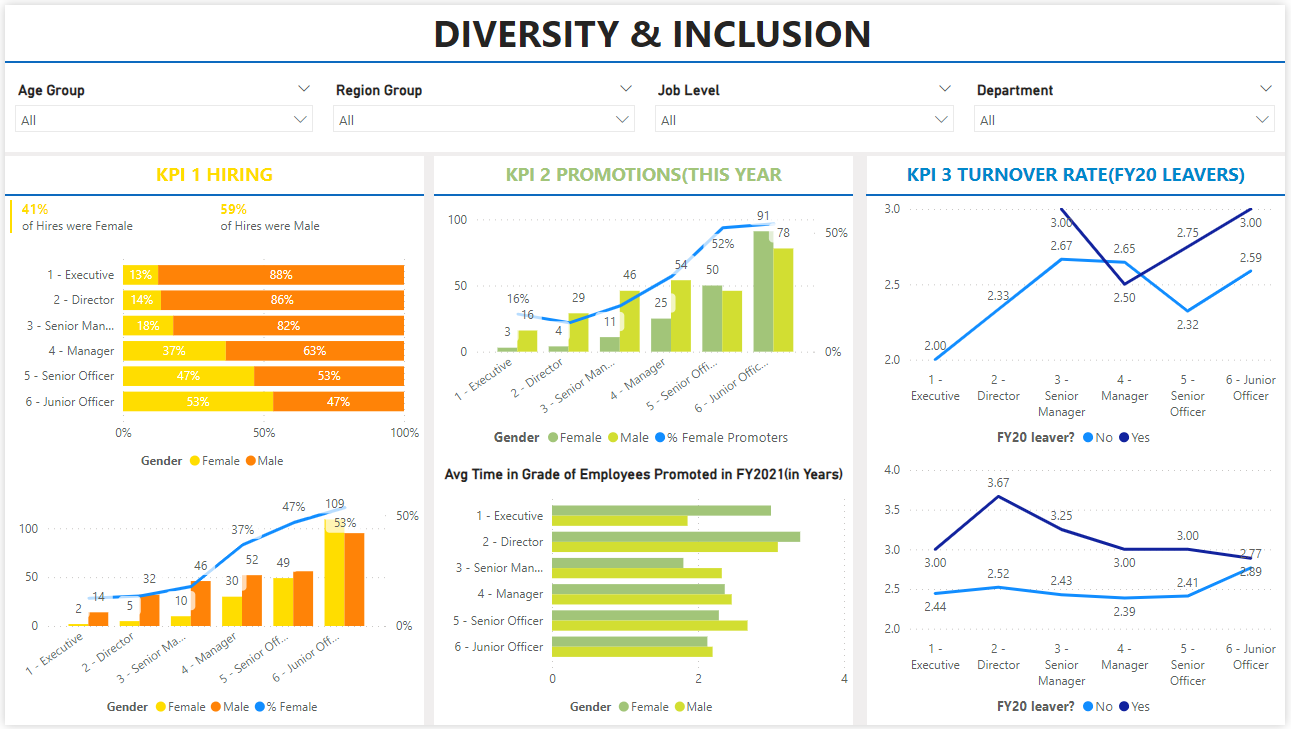

This screenshot's page, from the dashboard's own definition file:
{"tool":"powerbi","page":{"name":"Dashboard 1","canvas":[1280,720],"ordinal":0},"visuals":[{"type":"textbox","box":[0,0,1280,57],"z":0},{"type":"slicer","fields":{"Values":["Pharma.Last Department in FY20"]},"box":[959,57,321,90],"z":1000},{"type":"slicer","fields":{"Values":["Pharma.Job Level after FY20 promotions"]},"box":[640,57,319,90],"z":2000},{"type":"slicer","fields":{"Values":["Pharma.Age group"]},"box":[0,57,318,90],"z":3000},{"type":"slicer","fields":{"Values":["Pharma.Broad region group: nationality 1"]},"box":[318,57,322,90],"z":4000},{"type":"hundredPercentStackedBarChart","fields":{"Category":["Pharma.Job Level after FY20 promotions"],"Y":["CountNonNull(Pharma.Employee ID)"],"Series":["Pharma.Gender"]},"box":[0,237,419,237],"z":5000},{"type":"multiRowCard","fields":{"Values":["Pharma.% Female","Pharma.% Male"]},"box":[0,190,419,47],"z":6000},{"type":"lineClusteredColumnComboChart","fields":{"Category":["Pharma.Job Level after FY20 promotions"],"Y":["CountNonNull(Pharma.Employee ID)"],"Y2":["Pharma.% Female"],"Series":["Pharma.Gender"]},"box":[0,474,419,246],"z":7000},{"type":"lineClusteredColumnComboChart","fields":{"Y":["CountNonNull(Pharma.Employee ID)"],"Y2":["Pharma.% Female"],"Series":["Pharma.Gender"],"Category":["Pharma.Job Level after FY21 promotions"]},"box":[429,190,419,261],"z":8000},{"type":"clusteredBarChart","title":"Avg Time in Grade of  Employees Promoted in FY2021(in Years)","fields":{"Category":["Pharma.Job Level after FY20 promotions"],"Series":["Pharma.Gender"],"Y":["Avg(Pharma.Time in Job Level @01.07.2020)"]},"box":[429,451,419,269],"z":9000},{"type":"lineChart","fields":{"Category":["Pharma.Job Level after FY20 promotions"],"Series":["Pharma.FY20 leaver?"],"Y":["Avg(Pharma.FY19 Performance Rating)"]},"box":[862,190,418,261],"z":10000},{"type":"lineChart","fields":{"Category":["Pharma.Job Level after FY20 promotions"],"Series":["Pharma.FY20 leaver?"],"Y":["Avg(Pharma.FY19 Performance Rating)"]},"box":[862,451,418,269],"z":11000},{"type":"textbox","box":[0,151,419,39],"z":12000},{"type":"textbox","box":[429,151,419,39],"z":13000},{"type":"textbox","box":[862,151,418,39],"z":14000},{"type":"shape","box":[0,178,419,24],"z":15000},{"type":"shape","box":[429,178,419,24],"z":16000},{"type":"shape","box":[0,45,1280,24],"z":17000},{"type":"shape","box":[861,178,419,24],"z":18000}]}

Visuals, with their boxes in screenshot pixels (x1, y1, x2, y2), scaled from the page's 1280x720 canvas onto the 1291x729 screenshot:
textbox: detection(0, 0, 1290, 58)
slicer - Pharma.Last Department in FY20: detection(967, 58, 1290, 149)
slicer - Pharma.Job Level after FY20 promotions: detection(646, 58, 967, 149)
slicer - Pharma.Age group: detection(0, 58, 321, 149)
slicer - Pharma.Broad region group: nationality 1: detection(321, 58, 646, 149)
hundredPercentStackedBarChart - Pharma.Job Level after FY20 promotions x CountNonNull(Pharma.Employee ID): detection(0, 240, 423, 480)
multiRowCard - Pharma.% Female x Pharma.% Male: detection(0, 192, 423, 240)
lineClusteredColumnComboChart - Pharma.Job Level after FY20 promotions x CountNonNull(Pharma.Employee ID): detection(0, 480, 423, 728)
lineClusteredColumnComboChart - CountNonNull(Pharma.Employee ID) x Pharma.% Female: detection(433, 192, 855, 457)
"Avg Time in Grade of  Employees Promoted in FY2021(in Years)" clusteredBarChart: detection(433, 457, 855, 728)
lineChart - Pharma.Job Level after FY20 promotions x Pharma.FY20 leaver?: detection(869, 192, 1290, 457)
lineChart - Pharma.Job Level after FY20 promotions x Pharma.FY20 leaver?: detection(869, 457, 1290, 728)
textbox: detection(0, 153, 423, 192)
textbox: detection(433, 153, 855, 192)
textbox: detection(869, 153, 1290, 192)
shape: detection(0, 180, 423, 205)
shape: detection(433, 180, 855, 205)
shape: detection(0, 46, 1290, 70)
shape: detection(868, 180, 1290, 205)
